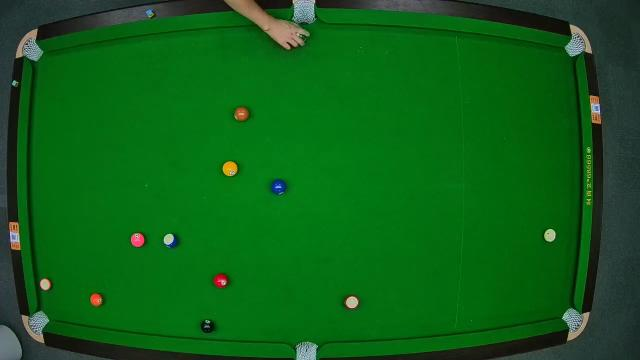bag1: (22, 39, 42, 63)
bag2: (292, 0, 316, 26)
bag3: (564, 33, 588, 58)
bag4: (28, 311, 48, 333)
bag5: (294, 340, 318, 360)
bag6: (562, 308, 582, 330)
ball0: (544, 228, 558, 242)
ball1: (222, 161, 238, 177)
ball10: (164, 233, 178, 248)
ball11: (344, 294, 360, 310)
ball12: (40, 278, 52, 290)
ball2: (271, 179, 287, 195)
ball3: (214, 272, 228, 290)
ball4: (130, 232, 146, 248)
ball5: (90, 293, 102, 307)
ball7: (233, 106, 250, 122)
ball8: (200, 319, 214, 333)
